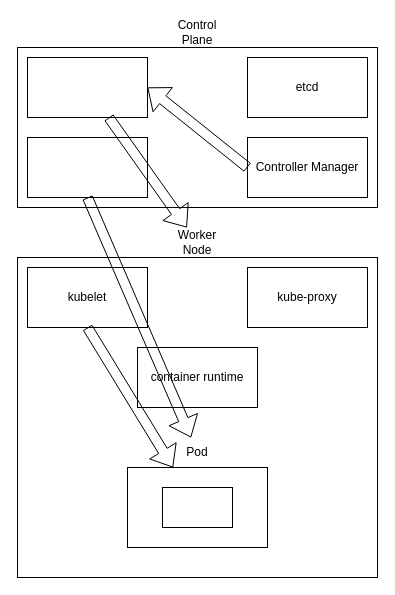
Some shapes in this 395 by 595 pixel diagram are drawn without their labels. Here are the shapes that lost their labels. From the top down, the centre of each, then its label:
At pixel 87 87: "API Server".
At pixel 87 167: "Scheduler".
At pixel 197 507: "Container".
